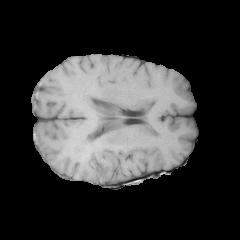glioma: (64, 99, 161, 182)
